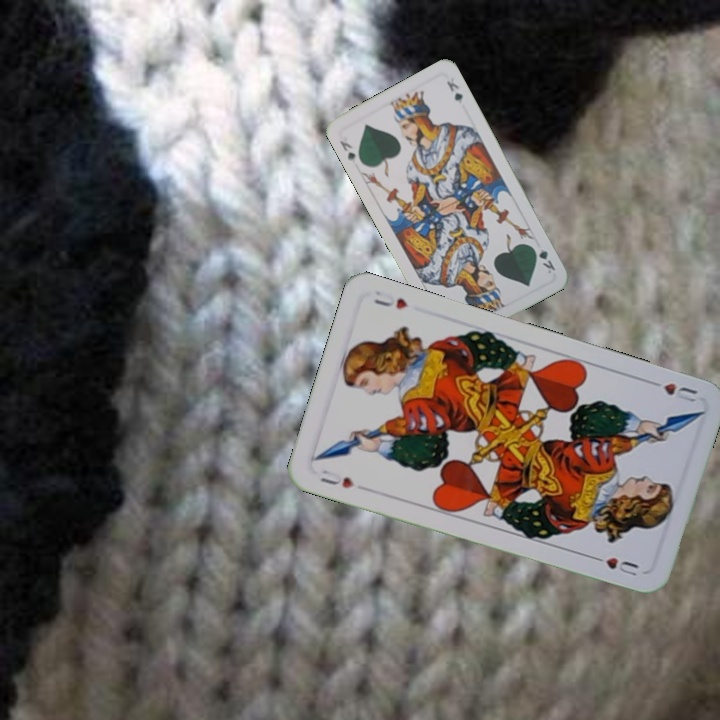GK: (528, 242, 558, 276), (335, 136, 359, 166)
HU: (644, 376, 700, 405), (315, 465, 357, 491)
